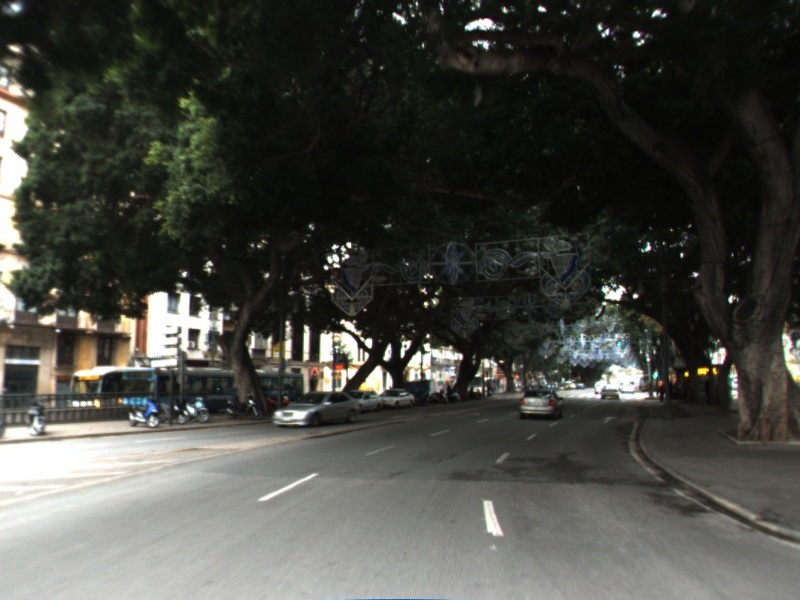STRAIGHT: (599, 414, 619, 426)
